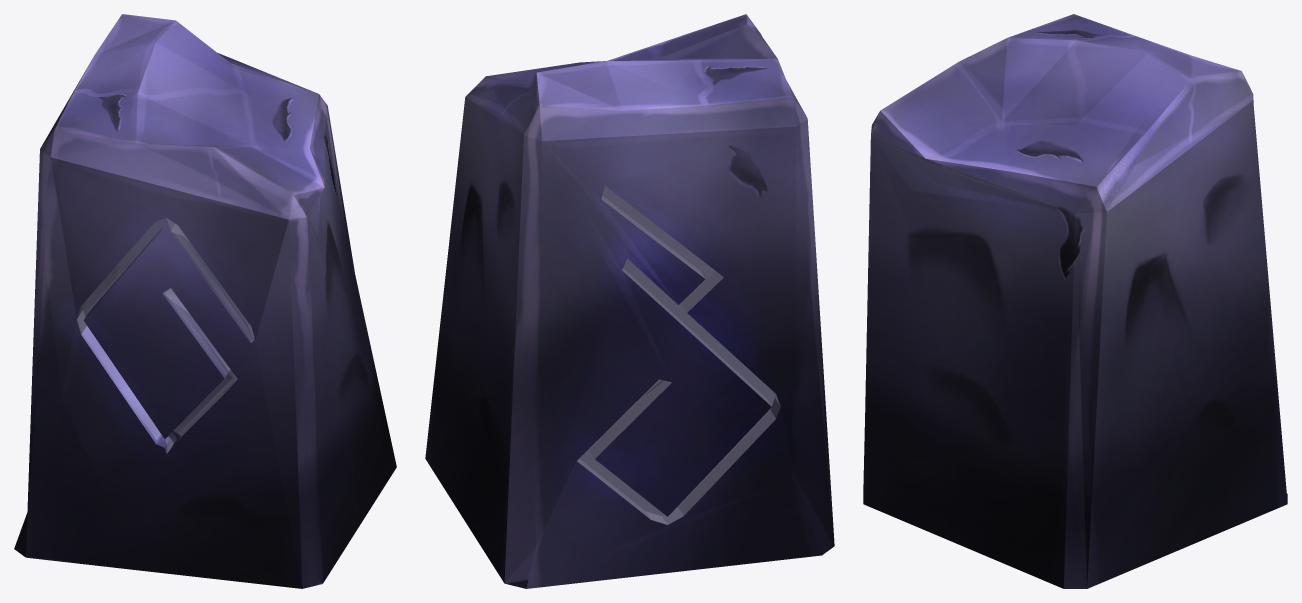
The model's file is Relic 2.fbx.
The picture shows the model from 3 angles, left to right: view 1: azimuth 30°, elevation 25°; view 2: azimuth 150°, elevation 25°; view 3: azimuth 270°, elevation 25°; orthographic projection. The views are drawn at different scales.
Parts seen in each view (by area): view 1: Cube.029; view 2: Cube.029; view 3: Cube.029.
Part boxes in pixels (x1,y1,x2,y2): Cube.029: (14,14,396,588); Cube.029: (425,14,834,588); Cube.029: (863,14,1287,588).
Size of the model in its own units: 2980 by 3398 by 2980.
